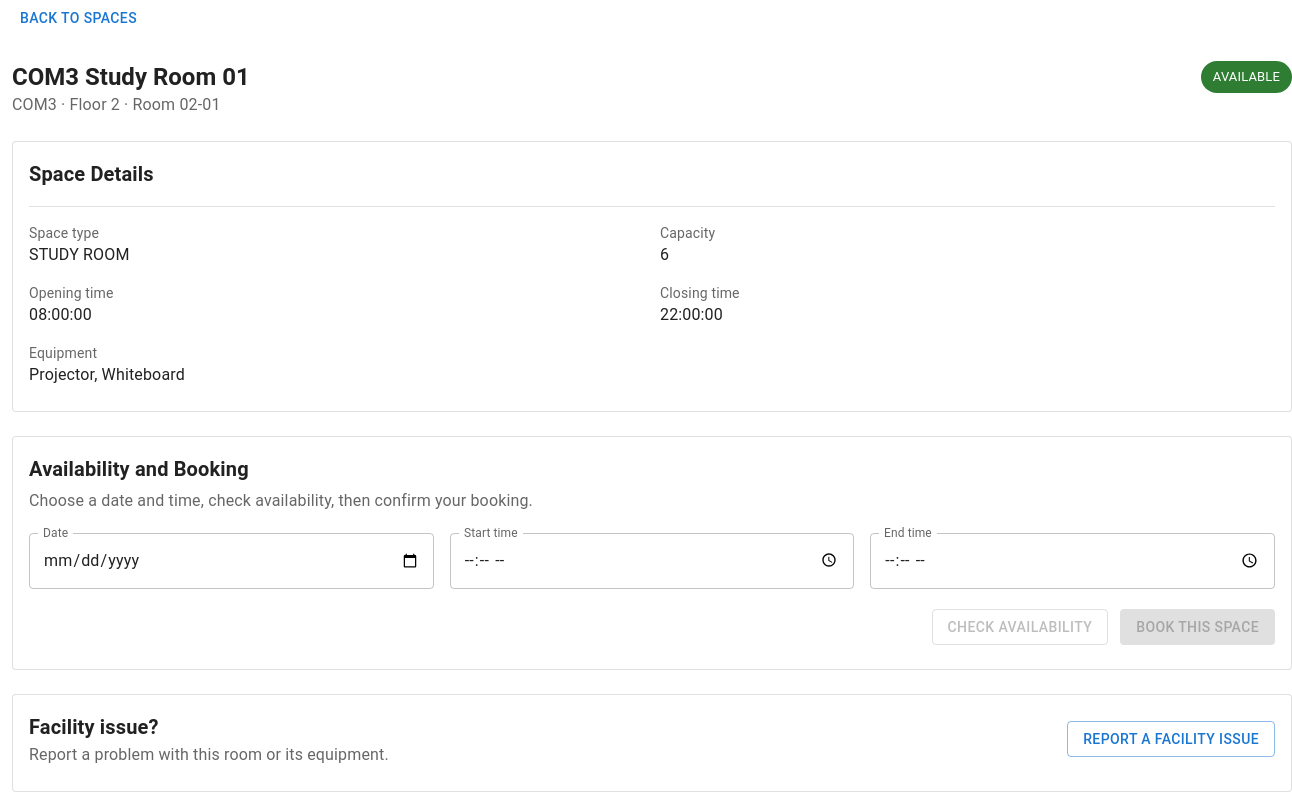
Test: SpaceDetailsPage availability and booking › shows a loading state while availability is checked
Expected: the heading "COM3 Study Room 01" is shown, [12, 60, 250, 92]
Type "2026-08-13" into the date field labelled "Date" at coordinates (231, 561), box [29, 533, 434, 589]
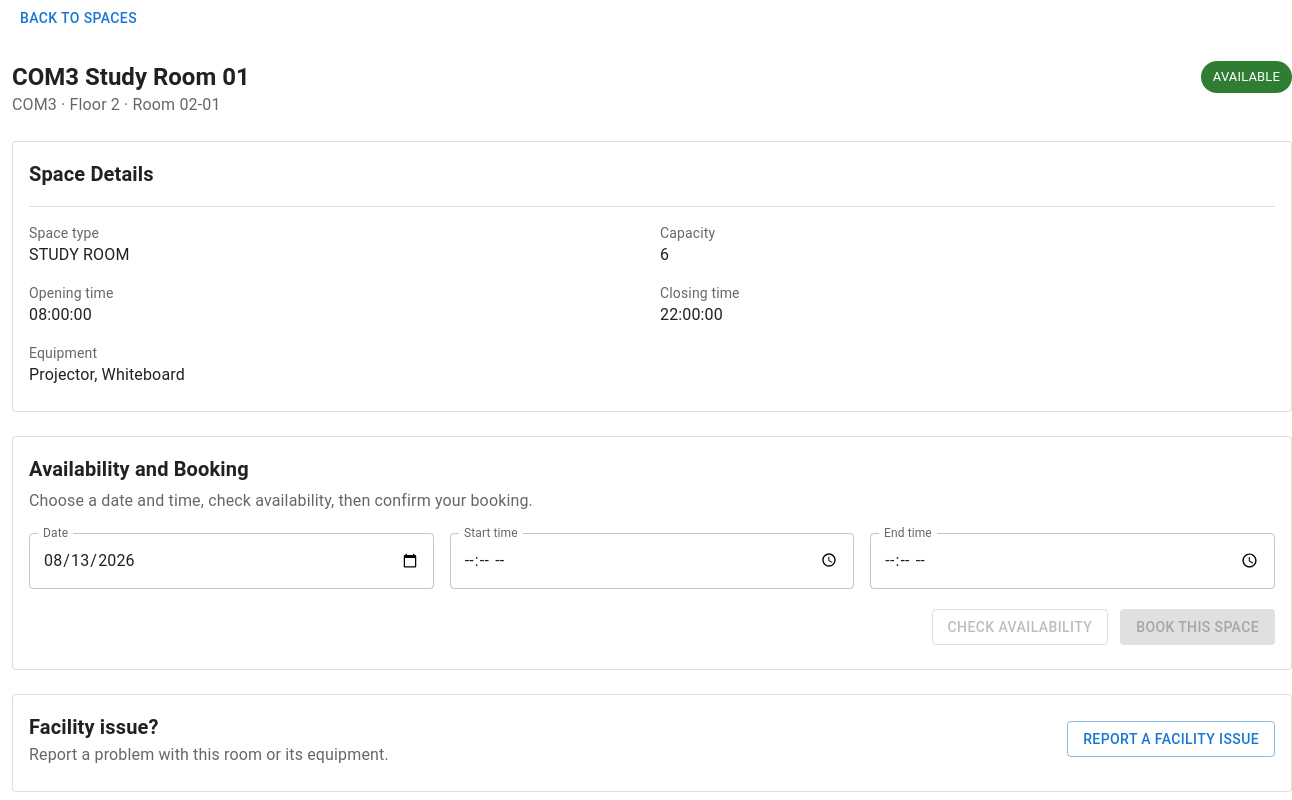
Type "14:00" into the time field labelled "Start time" at coordinates (652, 561), box [450, 533, 854, 589]
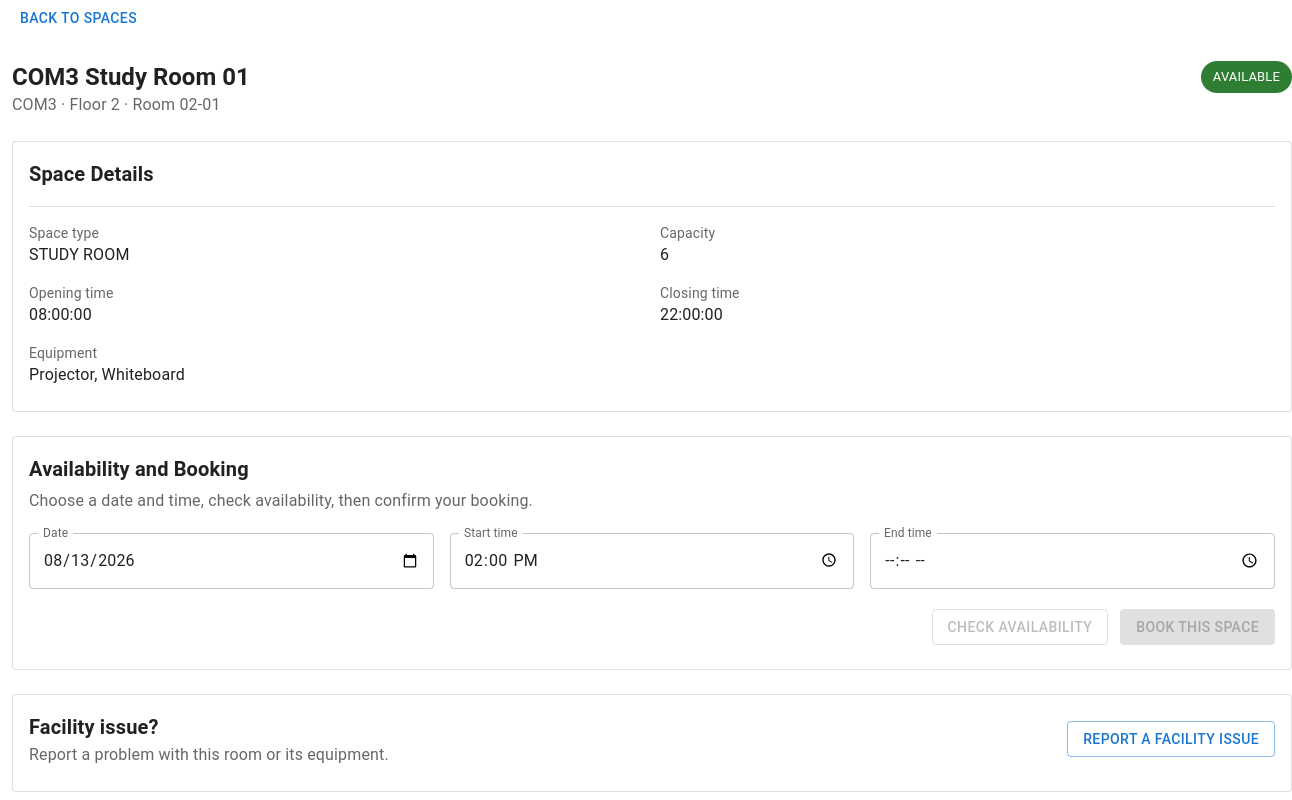
Type "16:00" into the time field labelled "End time" at coordinates (1073, 561), box [870, 533, 1275, 589]
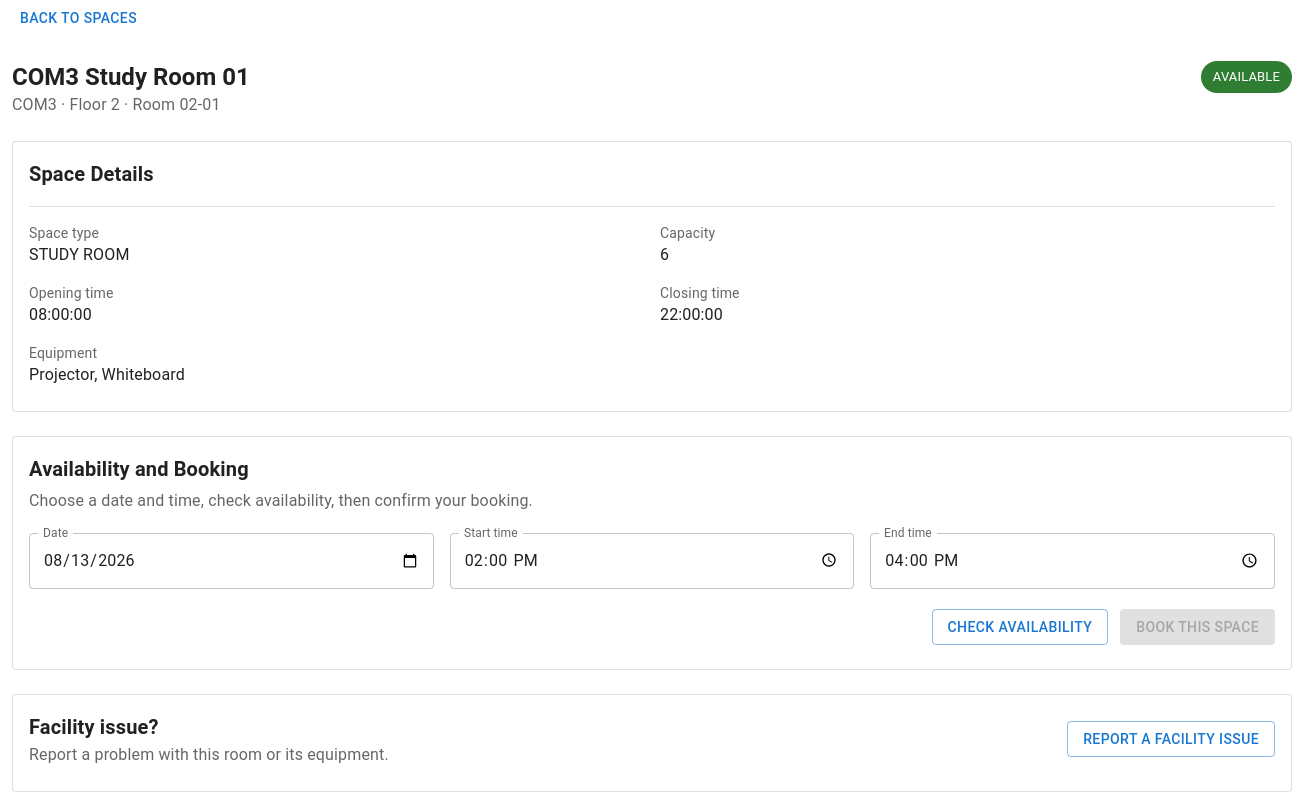
Click the button "Check Availability" at coordinates (1020, 627), box [932, 609, 1108, 645]
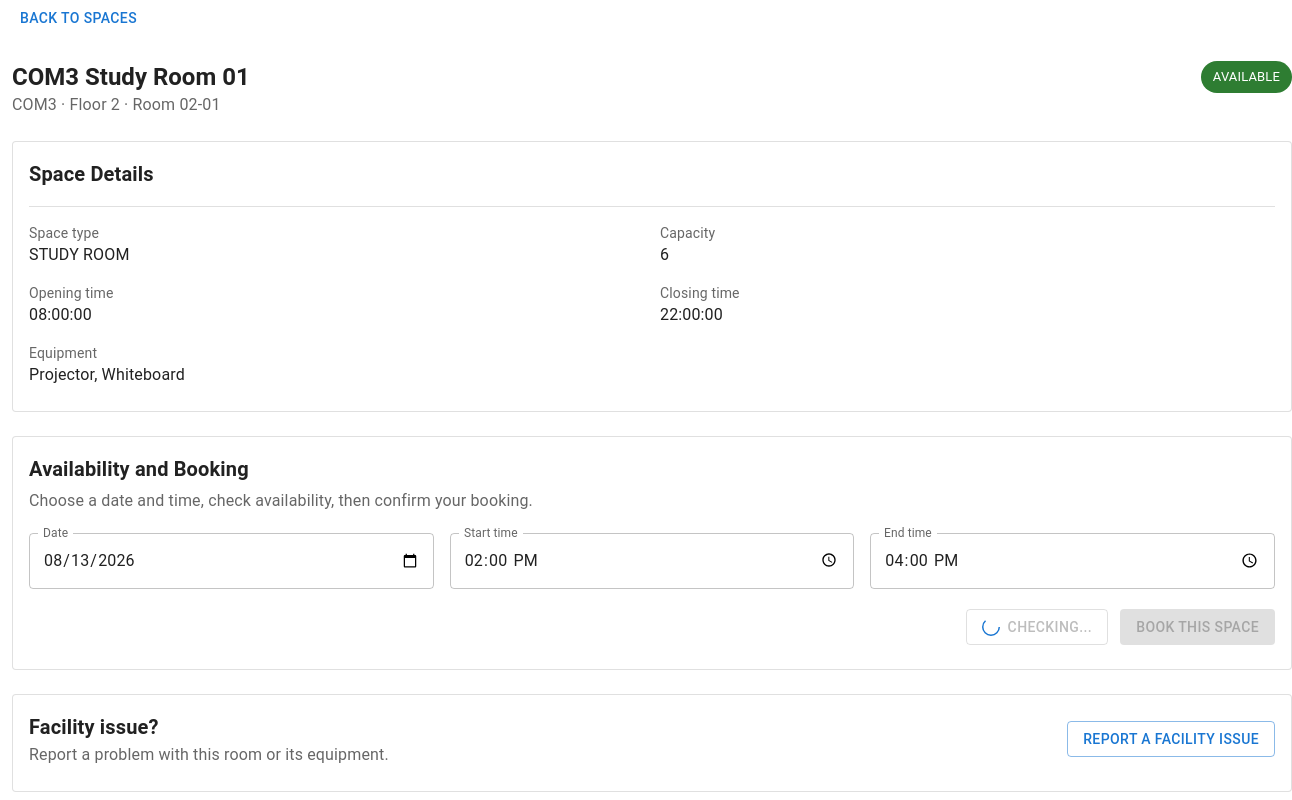
Now the button "Checking..." is disabled, box [966, 609, 1108, 645]
Now the progress indicator is shown, box [982, 618, 1000, 636]
